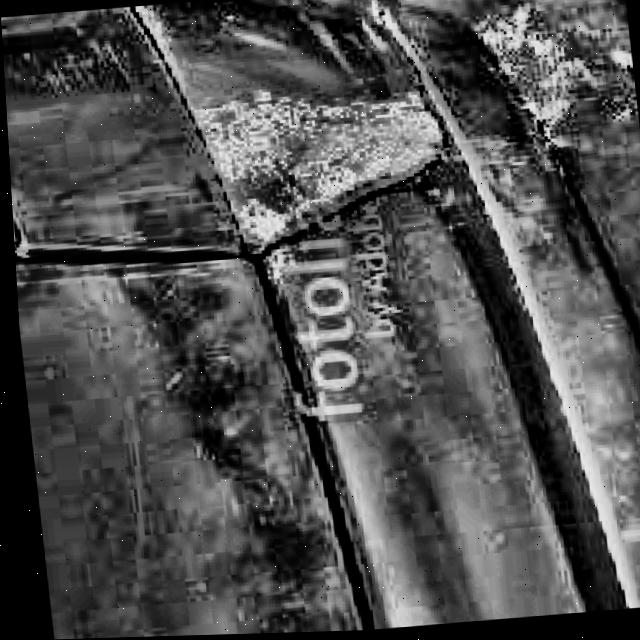bumper_scratch: (215, 69, 454, 266), (475, 12, 640, 140)
